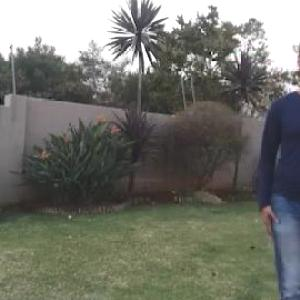follow: (262, 48, 299, 299)
